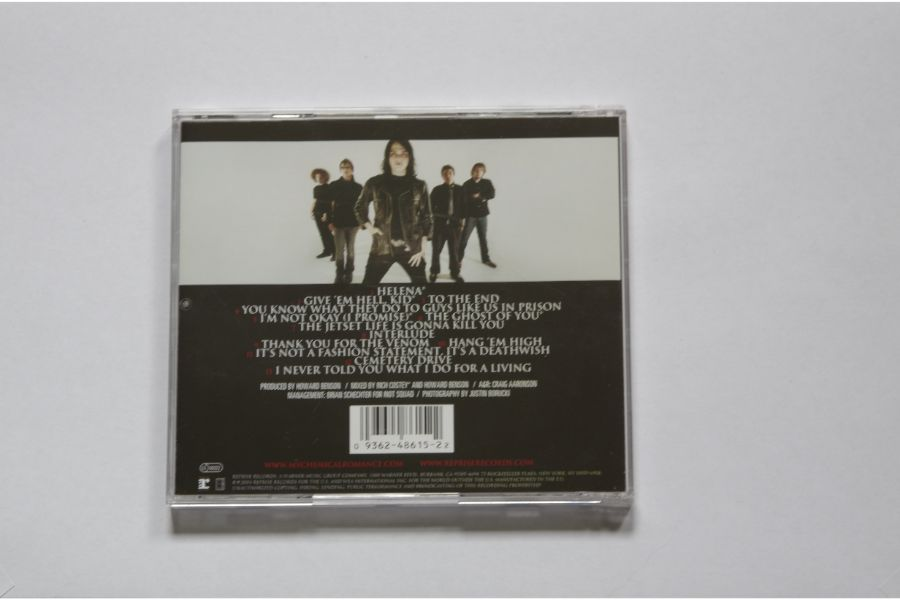album: (165, 104, 640, 511)
